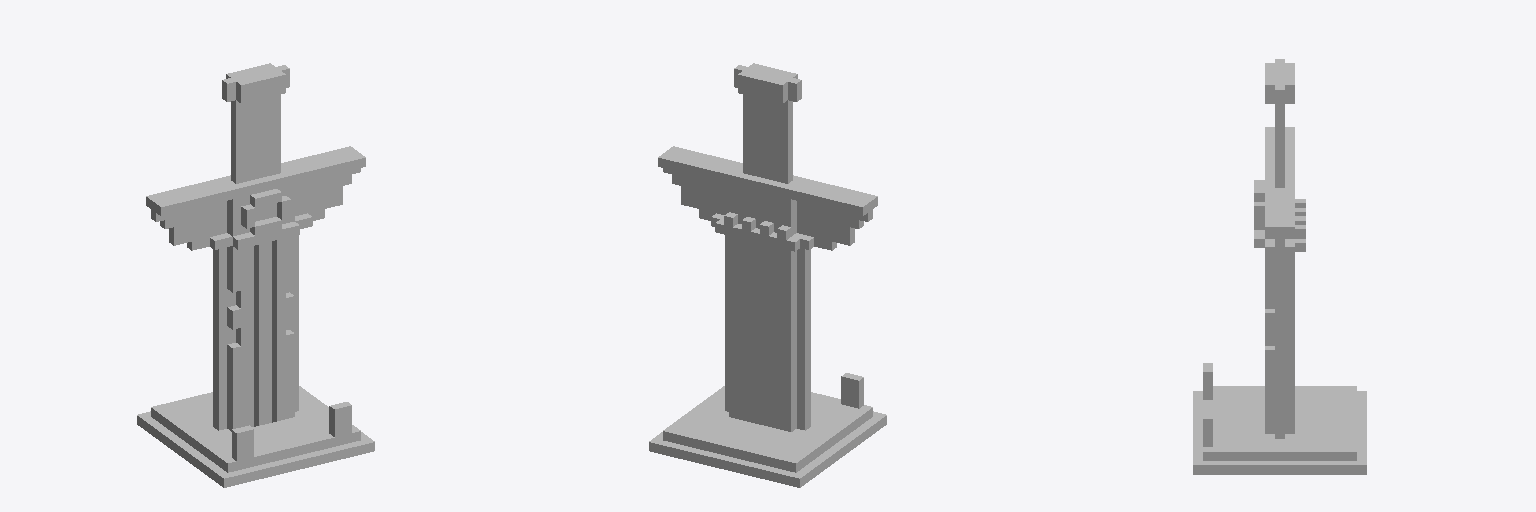
Rendered from sword.obj.
3 views of the same model, side by side, from view 1: azimuth 30°, elevation 25°; view 2: azimuth 150°, elevation 25°; view 3: azimuth 270°, elevation 25° (orthographic).
Visible parts, largest first — view 1: object 1; view 2: object 1; view 3: object 1.
Part boxes in pixels (x1,y1,x2,y2): object 1: (137, 63, 374, 487); object 1: (649, 63, 886, 487); object 1: (1193, 59, 1366, 474).
Bounding box in the file's own units: 2.3 × 3.9 × 1.7.